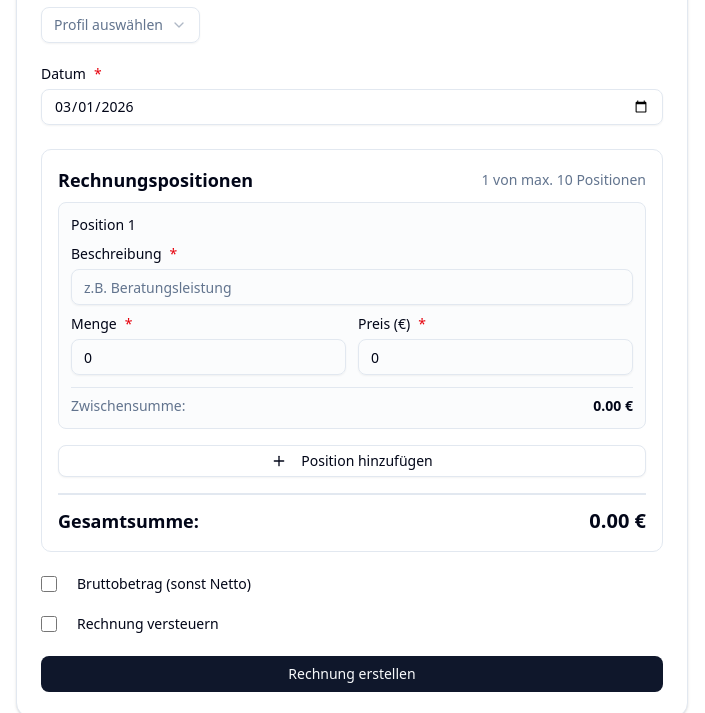
Test case: InvoiceForm › kann weitere Positionen hinzufügen
(page scrolled)
Click the button "Position hinzufügen": (352, 461) 58,445 -> 646,477
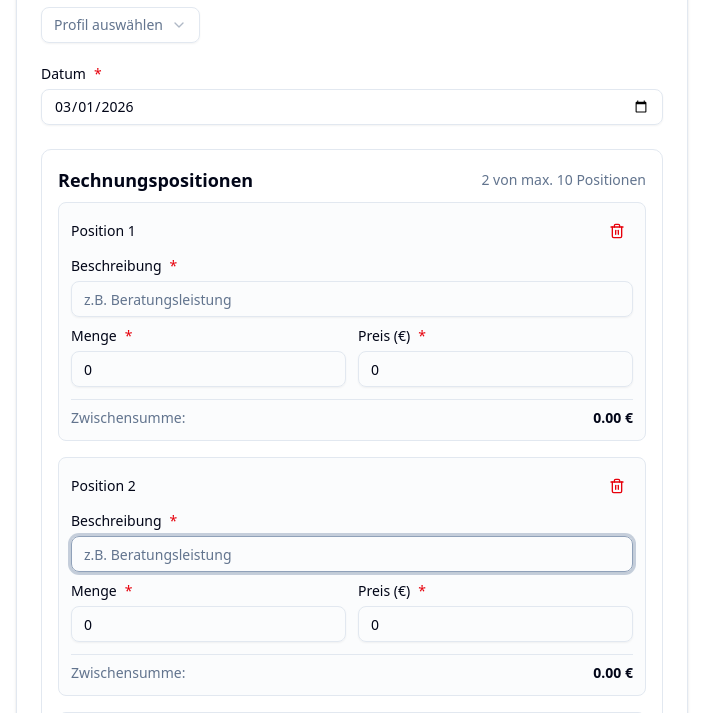
Now the text "Position 2" is shown, box 71,476 -> 136,496
Now the text "2 von max. 10 Positionen" is shown, box 482,170 -> 646,190
